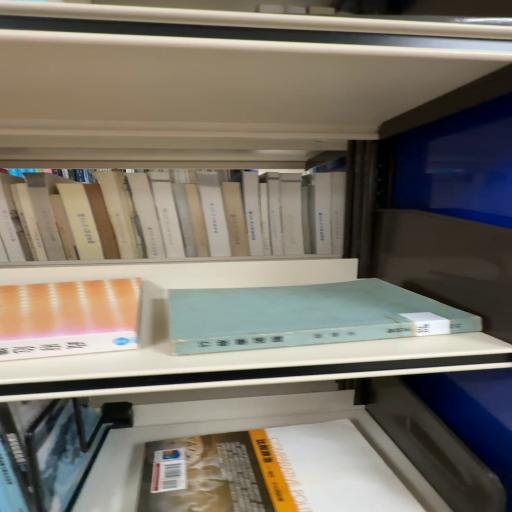flat: (139, 420, 425, 512), (168, 279, 482, 356)
